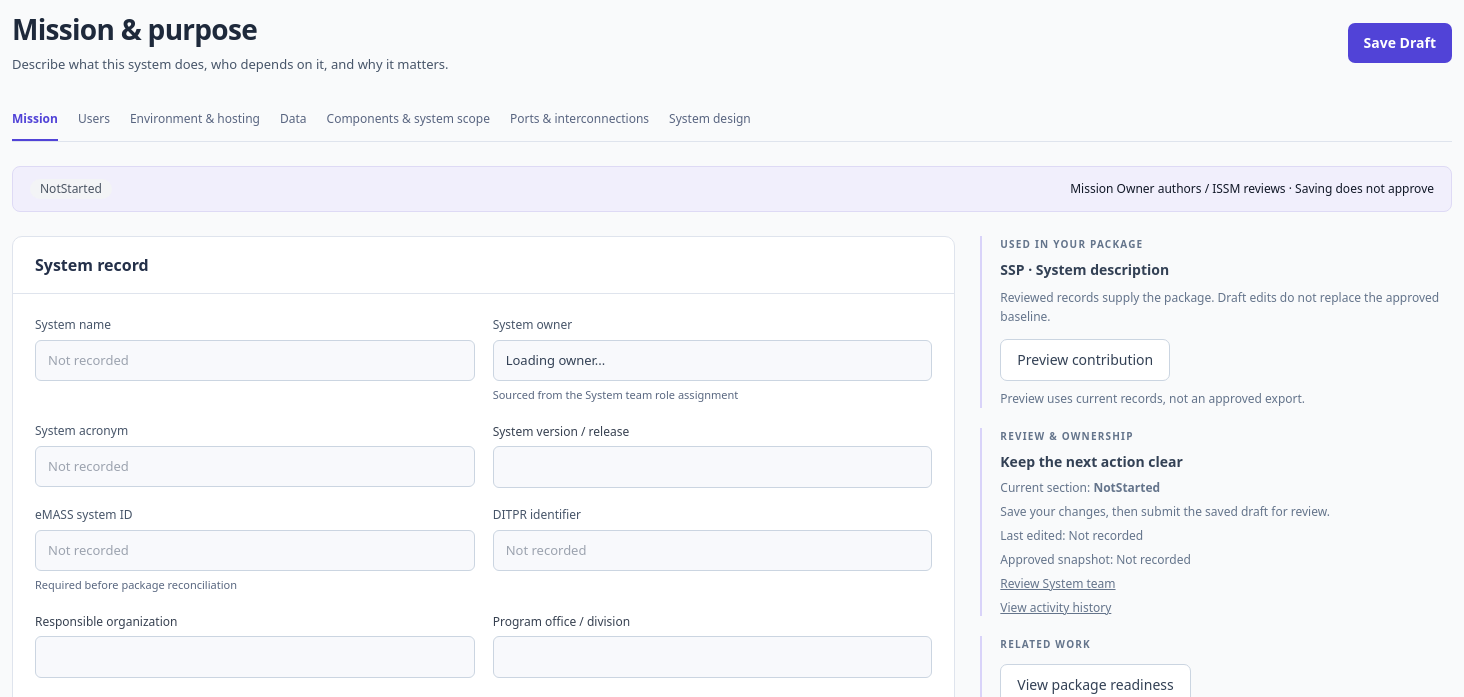
Test: server-authoritative profile editing (#968) › uses the safe fallback for rejected saves ({"error":""})
Click the button "Save Draft".
click(1400, 43)  # box [1348,23,1452,63]
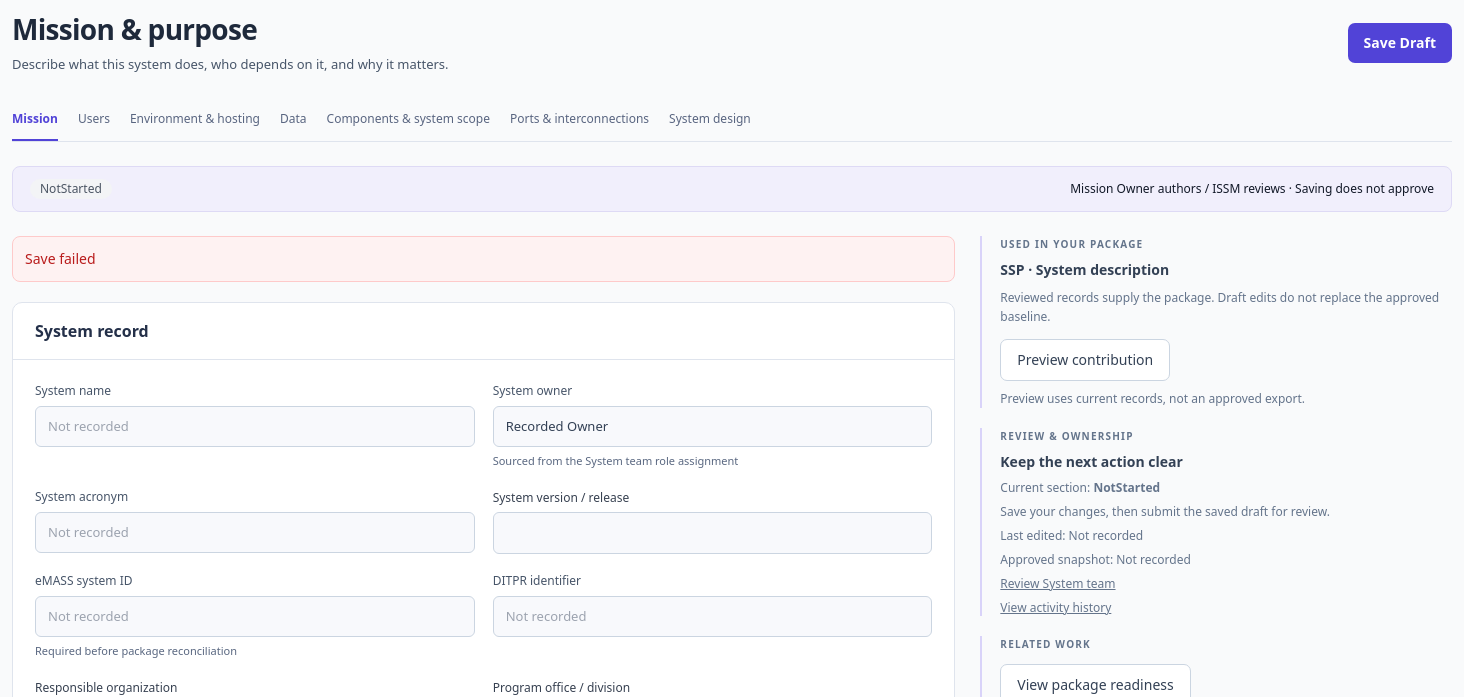
expect the text "Save failed" is shown: met, box [12,236,955,282]
